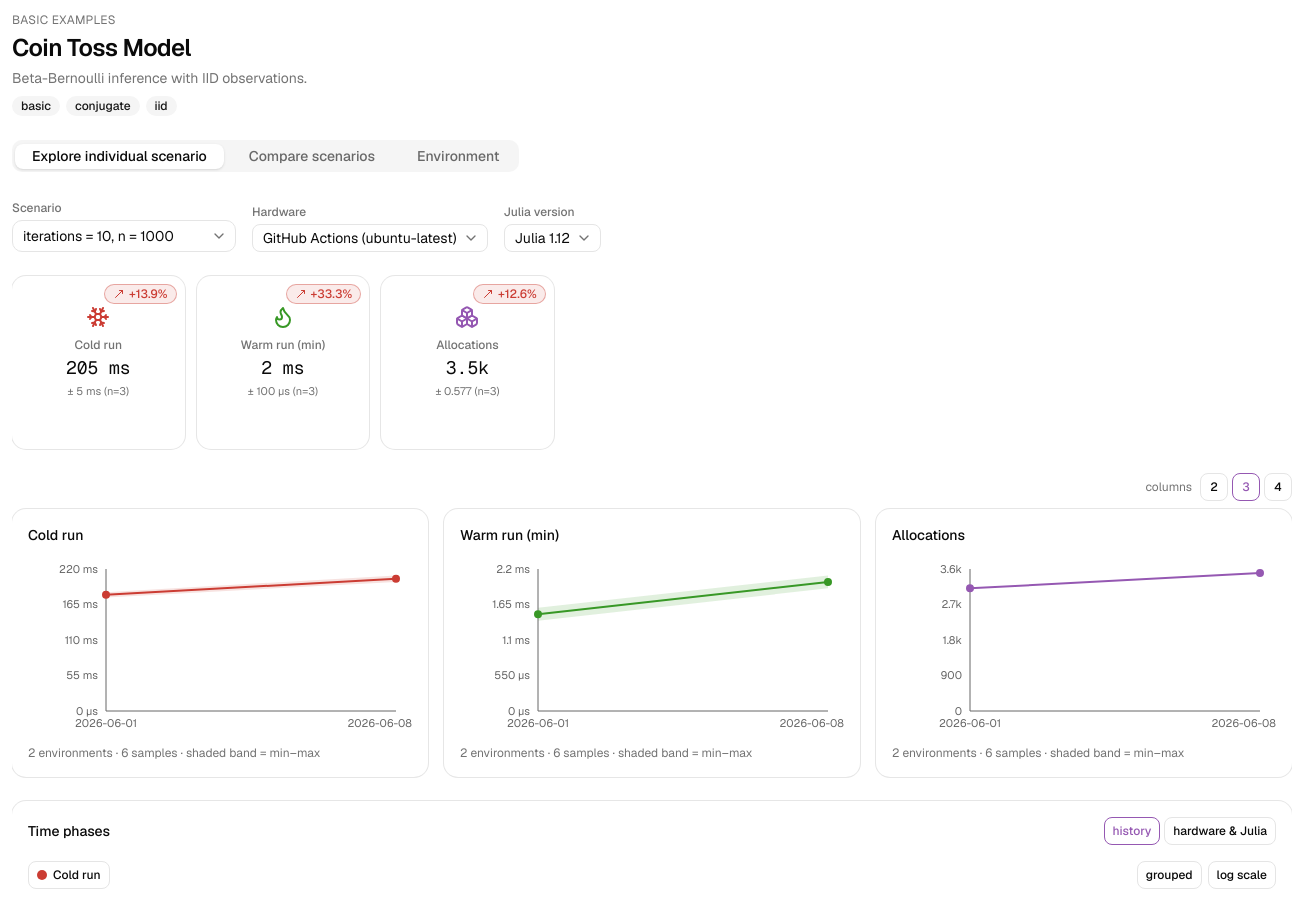
Test: BenchmarkView › offers a Compare scenarios tab when the benchmark has several scenarios
Click the tab "Compare scenarios".
click(312, 156)  # box [232, 144, 392, 168]
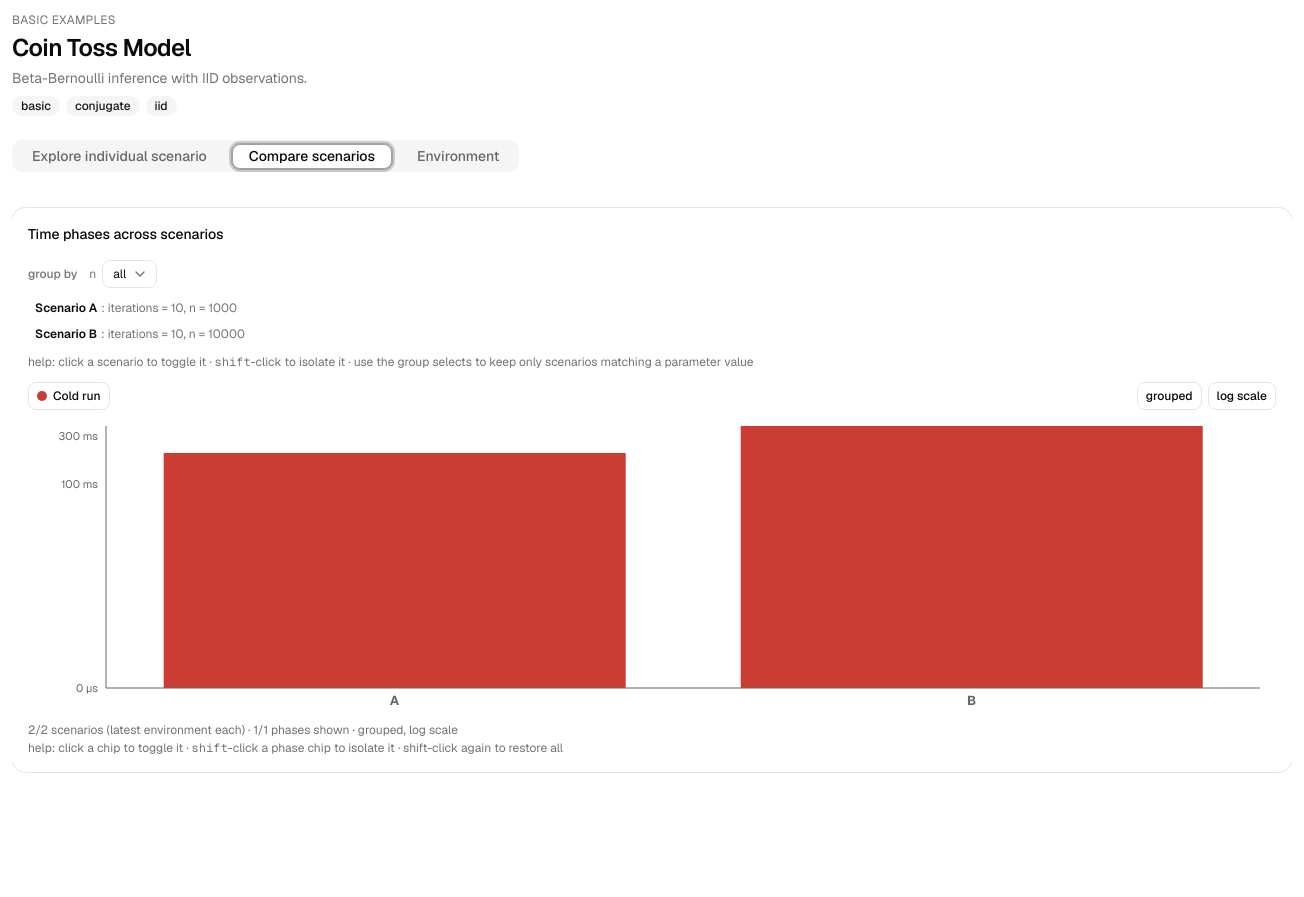
Expected: the text "Time phases across scenarios" is shown, [28, 225, 224, 243]
Expected: the element named "scenario comparison" is shown, [28, 382, 1276, 756]
